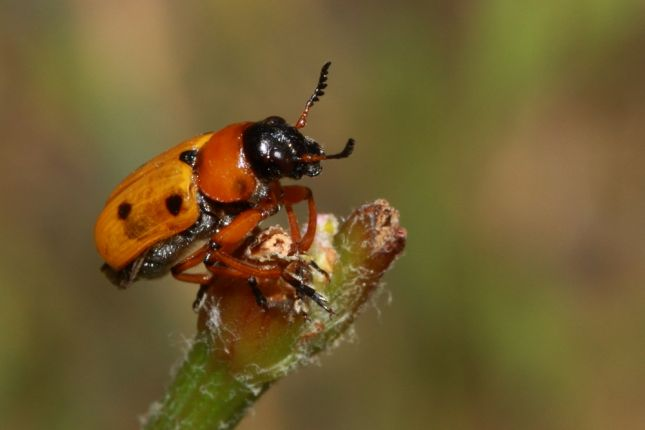Tituboea_macropus: (85, 54, 361, 290)
